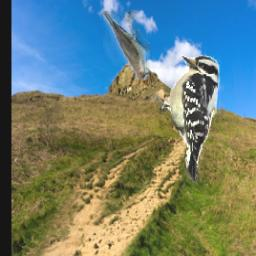Cuckoo: (102, 11, 149, 79)
Woodpecker: (153, 53, 222, 184)
